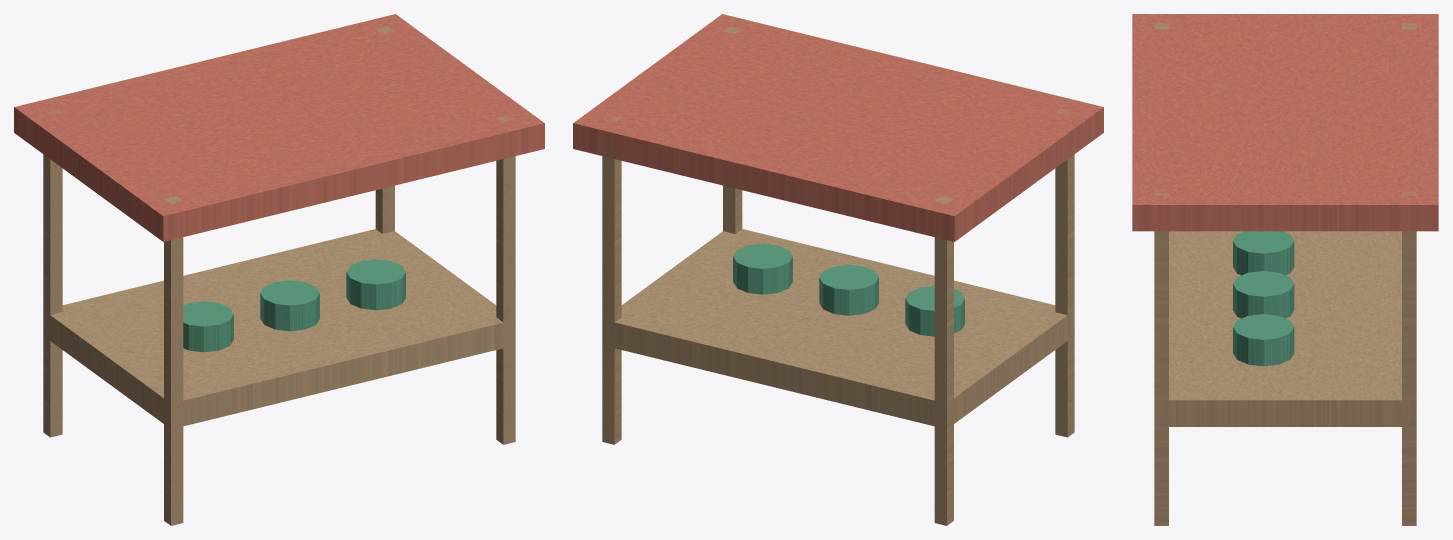
File: market_stall_lod2.glb
3 views of the same model, side by side, from view 1: azimuth 30°, elevation 25°; view 2: azimuth 150°, elevation 25°; view 3: azimuth 270°, elevation 25° (orthographic). The views are drawn at different scales.
Visible parts, largest first — view 1: world; view 2: world; view 3: world.
Part boxes in pixels (left/top/right/bottom): world: left=14, top=14, right=544, bottom=525; world: left=573, top=14, right=1103, bottom=525; world: left=1132, top=14, right=1438, bottom=525.
Bounding box in the file's own units: 3.1 × 2.5 × 2.1.
Materials: 9 (9 with a texture image).
